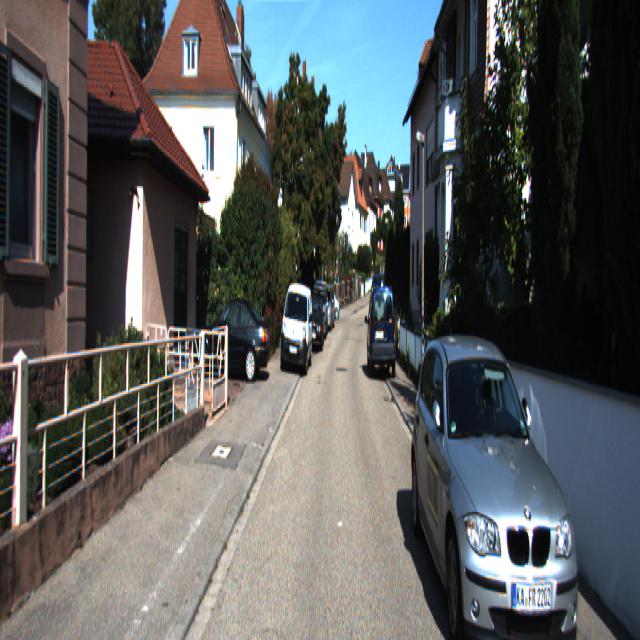Car: (406, 324, 586, 638), (192, 296, 272, 385), (278, 280, 314, 377), (366, 285, 397, 381), (304, 296, 325, 353)
